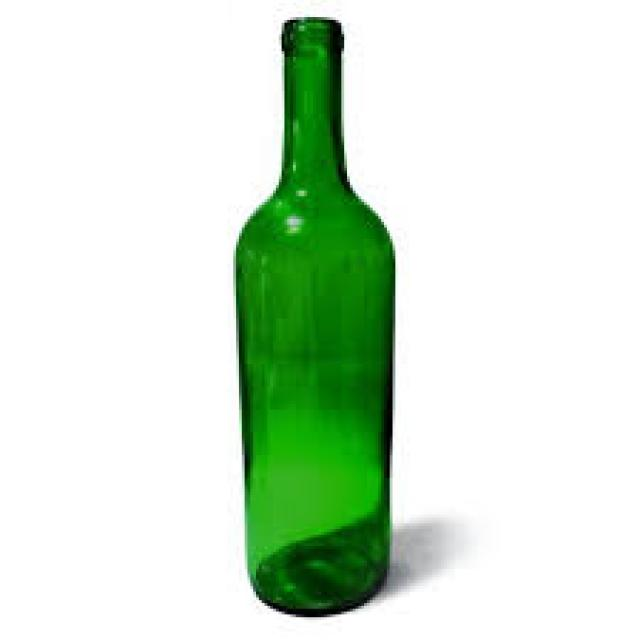glass: (233, 17, 393, 612)
